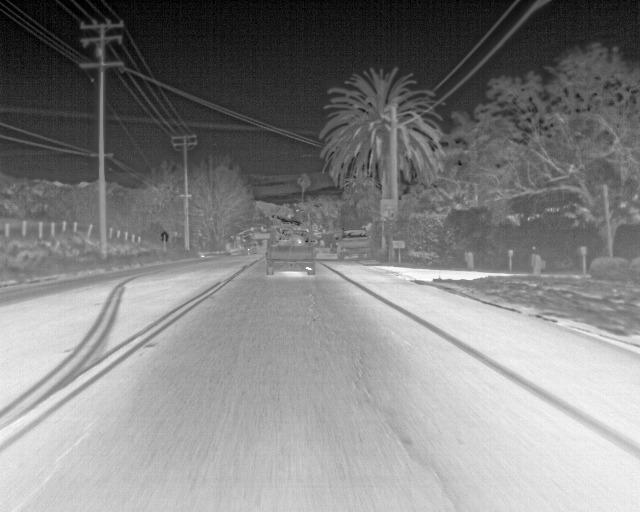car: (265, 225, 316, 276), (335, 229, 370, 260), (248, 242, 258, 254)
light: (261, 226, 263, 232), (251, 226, 253, 231)
sign: (393, 241, 405, 248), (161, 231, 168, 242)
